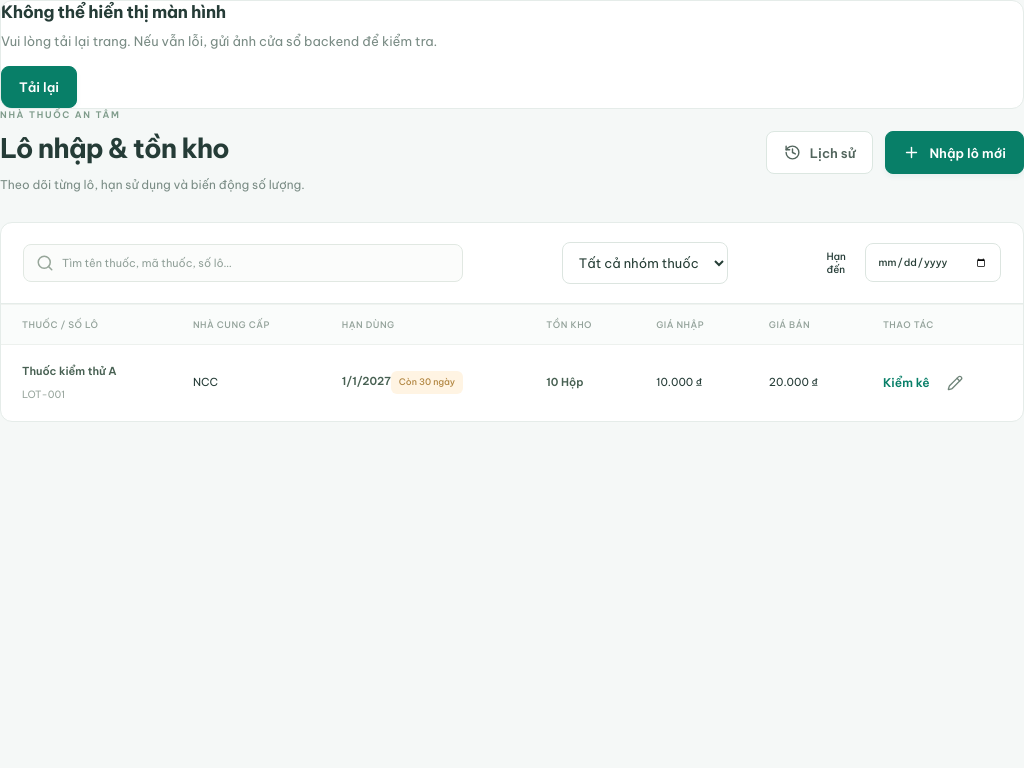
batch page renders quantity and opens adjustment
Expected: the text "LOT-001" is shown, [22, 388, 65, 401]
Click the button "Kiểm kê": (906, 383) [883, 368, 930, 397]
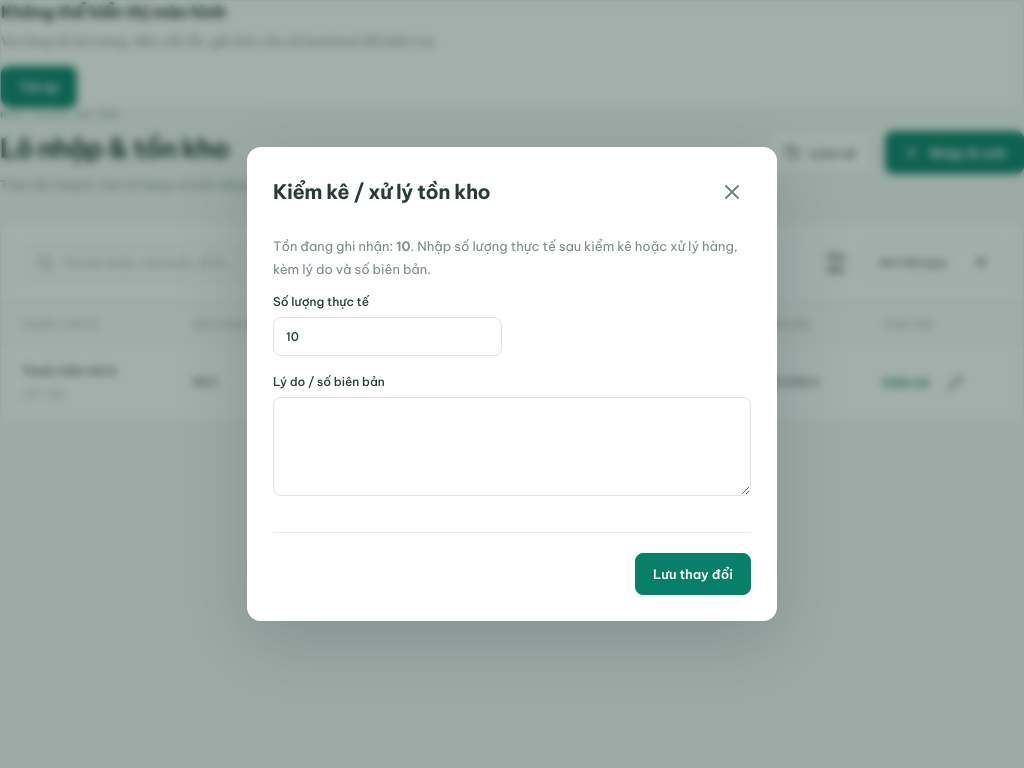
Expected: the number field labelled "Số lượng thực tế" holds "10", [273, 317, 502, 356]
